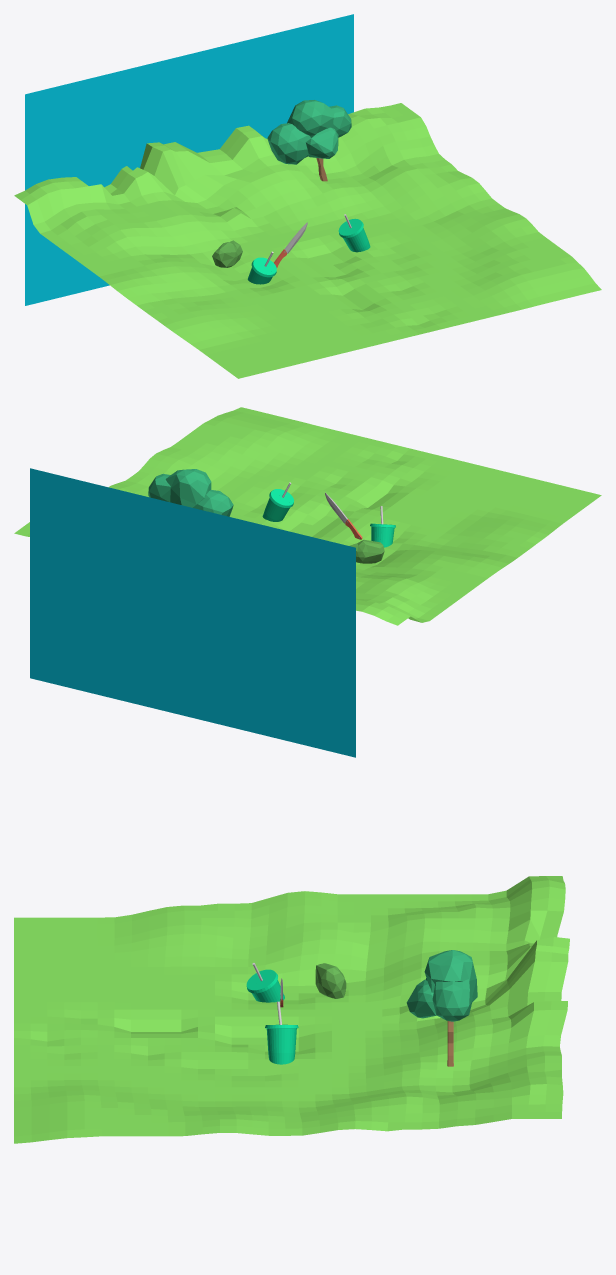
The model's file is menu expocition.fbx.
The picture shows the model from 3 angles, top to bottom: view 1: azimuth 30°, elevation 25°; view 2: azimuth 150°, elevation 25°; view 3: azimuth 270°, elevation 25°; orthographic projection. The views are drawn at different scales.
Visible parts, largest first — view 1: Plane, Plane.001, Icosphere.001, Icosphere.002, Icosphere.003, Icosphere.004, Cylinder.004; view 2: Plane.001, Plane, Icosphere.002, Icosphere.001, Icosphere.004, Cylinder.002, Icosphere; view 3: Plane, Icosphere.002, Icosphere, Icosphere.004, Icosphere.003, Cylinder.008.
Part boxes in pixels (bbox=[...]): Plane: bbox=[14, 103, 601, 378]; Plane.001: bbox=[25, 14, 353, 305]; Icosphere.001: bbox=[267, 123, 310, 164]; Icosphere.002: bbox=[287, 100, 334, 137]; Icosphere.003: bbox=[305, 127, 338, 158]; Icosphere.004: bbox=[212, 240, 242, 267]; Cylinder.004: bbox=[340, 220, 370, 252]; Plane.001: bbox=[30, 468, 355, 757]; Plane: bbox=[14, 407, 601, 625]; Icosphere.002: bbox=[165, 469, 211, 507]; Icosphere.001: bbox=[193, 490, 233, 516]; Icosphere.004: bbox=[350, 539, 384, 563]; Cylinder.002: bbox=[262, 490, 292, 521]; Icosphere: bbox=[148, 473, 170, 502]; Plane: bbox=[14, 876, 569, 1143]; Icosphere.002: bbox=[424, 950, 477, 1001]; Icosphere: bbox=[432, 979, 472, 1021]; Icosphere.004: bbox=[315, 963, 346, 998]; Icosphere.003: bbox=[406, 979, 436, 1018]; Cylinder.008: bbox=[248, 971, 284, 1002].
Bounding box in the file's own units: 4746 × 2448 × 4831.
